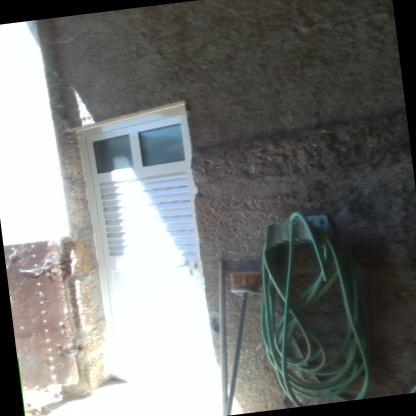closed: (54, 83, 242, 409)
